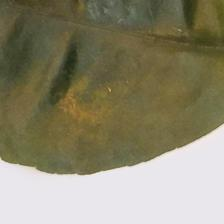healthy: (7, 4, 224, 128)
